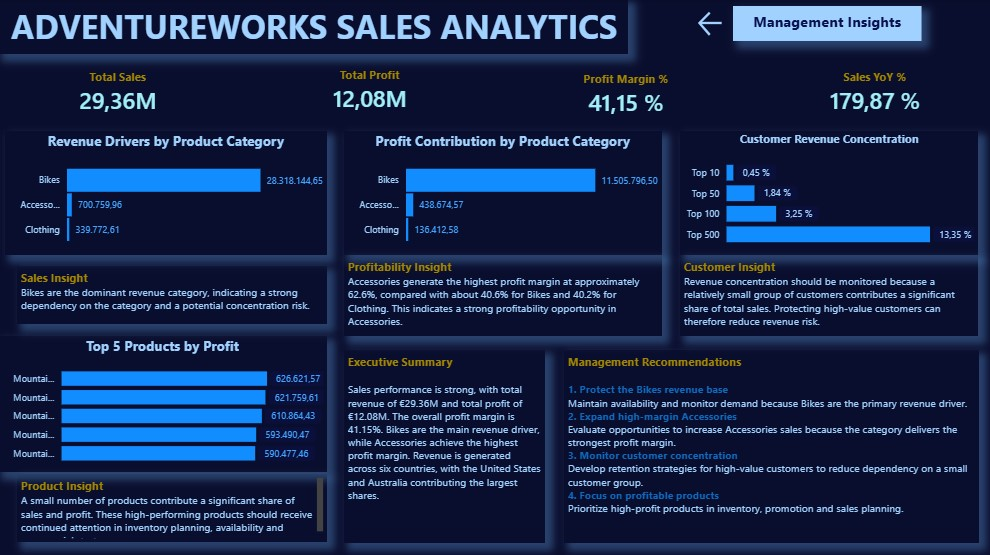

The page's visual inventory and layout, read from the dashboard file:
{"tool":"powerbi","page":{"name":"Management Insights","canvas":[1280,720],"ordinal":4},"visuals":[{"type":"group","id":"g1","title":"Group 1","box":[0,68.6,1279.2,98.8],"z":0},{"type":"textbox","box":[0,0,813.1,71.3],"z":1000},{"type":"textbox","box":[948.4,8.7,242.9,45.1],"z":2000},{"type":"cardVisual","fields":{"Data":["sales_featured.Total Sales"]},"box":[0,71.4,309.8,96],"z":2000,"group":"g1"},{"type":"cardVisual","fields":{"Data":["sales_featured.Total Profit"]},"box":[309.8,68.6,340.4,96],"z":3000,"group":"g1"},{"type":"cardVisual","fields":{"Data":["sales_featured.Profit Margin %"]},"box":[663.3,74.2,294.9,96],"z":3000},{"type":"cardVisual","fields":{"Data":["sales_featured.Sales YoY %"]},"box":[984.3,71.3,294.9,96],"z":4000,"group":"g1"},{"type":"clusteredBarChart","title":"Customer Revenue Concentration","fields":{"Category":["Customer Concentration.Customer Group"],"Y":["Customer Concentration.Customer Concentration %"]},"box":[880,170.2,385.5,160],"z":4000},{"type":"clusteredBarChart","title":"Revenue Drivers by Product Category","fields":{"Category":["sales_featured.ProductCategoryName"],"Y":["sales_featured.Total Sales"]},"box":[9,170.3,415.5,160],"z":5000},{"type":"clusteredBarChart","title":"Profit Contribution by Product Category","fields":{"Category":["sales_featured.ProductCategoryName"],"Y":["sales_featured.Total Profit"]},"box":[446.5,170.2,410.2,160],"z":6000},{"type":"actionButton","box":[897.5,11.6,43.6,40.7],"z":7000},{"type":"clusteredBarChart","title":"Top 5 Products by Profit","fields":{"Y":["sales_featured.Total Profit"],"Category":["sales_featured.ProductName"]},"box":[0,434.9,424.7,176],"z":8000},{"type":"textbox","box":[446.5,452.4,260.4,248.7],"z":9000},{"type":"textbox","box":[24.5,344.5,400,74.8],"z":10000},{"type":"textbox","box":[446.5,330.2,410.2,104.7],"z":11000},{"type":"textbox","box":[730.2,452.4,535.3,248.7],"z":12000},{"type":"textbox","box":[880,330.2,385.5,104.7],"z":13000},{"type":"textbox","box":[24.5,612.9,400,87.7],"z":14000}]}

Visuals, with their boxes in screenshot pixels (x1, y1, x2, y2), scaled from the page's 1280x720 canvas onto the 990x555 screenshot:
"Group 1" group: [0, 53, 989, 129]
textbox: [0, 0, 629, 55]
textbox: [734, 7, 921, 41]
cardVisual - sales_featured.Total Sales: [0, 55, 240, 129]
cardVisual - sales_featured.Total Profit: [240, 53, 503, 127]
cardVisual - sales_featured.Profit Margin %: [513, 57, 741, 131]
cardVisual - sales_featured.Sales YoY %: [761, 55, 989, 129]
"Customer Revenue Concentration" clusteredBarChart: [681, 131, 979, 255]
"Revenue Drivers by Product Category" clusteredBarChart: [7, 131, 328, 255]
"Profit Contribution by Product Category" clusteredBarChart: [345, 131, 663, 255]
actionButton: [694, 9, 728, 40]
"Top 5 Products by Profit" clusteredBarChart: [0, 335, 328, 471]
textbox: [345, 349, 547, 540]
textbox: [19, 266, 328, 323]
textbox: [345, 255, 663, 335]
textbox: [565, 349, 979, 540]
textbox: [681, 255, 979, 335]
textbox: [19, 472, 328, 540]
